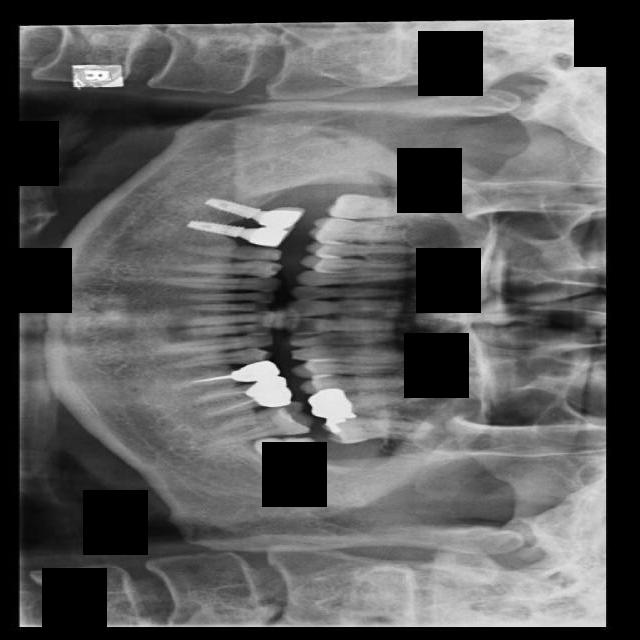52: (244, 192, 306, 259), (241, 371, 294, 418), (228, 357, 279, 389), (306, 388, 357, 419), (318, 415, 367, 445)
73: (182, 382, 261, 422), (180, 370, 238, 388), (67, 610, 75, 612)
BioHorizons Implant: (319, 413, 435, 449)
Biomet 3i Implant: (252, 435, 329, 488)
Blue Sky Bio Implant: (202, 398, 315, 448)
Caries: (325, 193, 454, 219)
